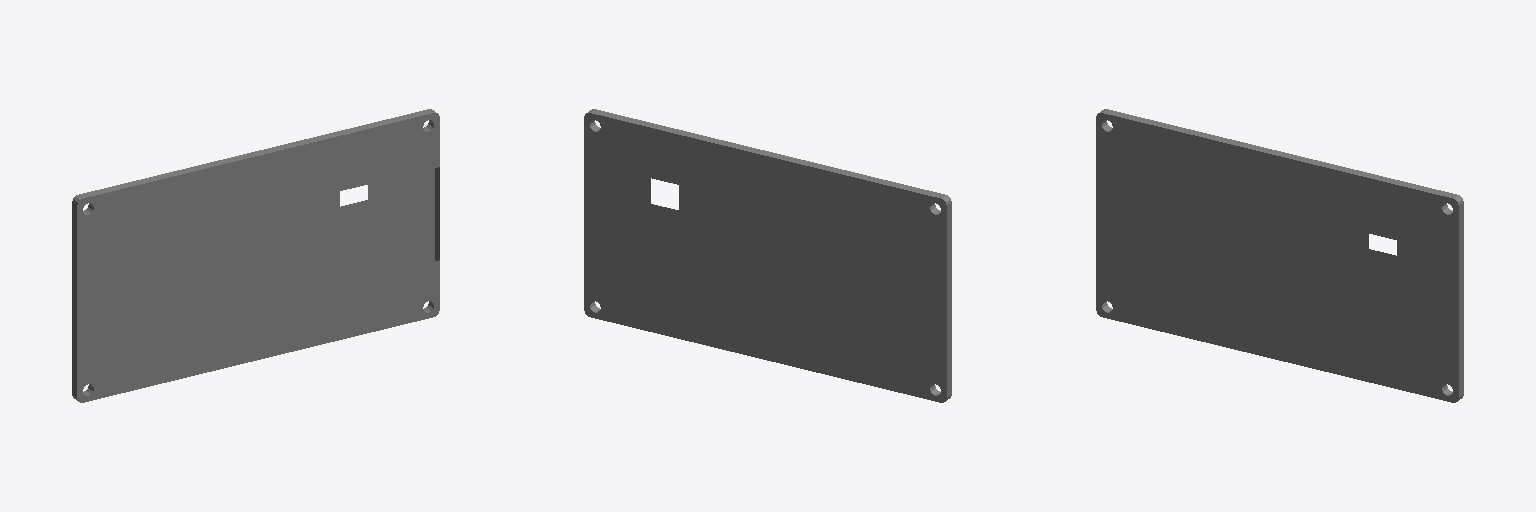
The model's file is solo12_base_23.obj.
The picture shows the model from 3 angles: view 1: azimuth 30°, elevation 25°; view 2: azimuth 150°, elevation 25°; view 3: azimuth 330°, elevation 25°; orthographic projection.
Size of the model in its own units: 0.065 by 0.035 by 0.0016.